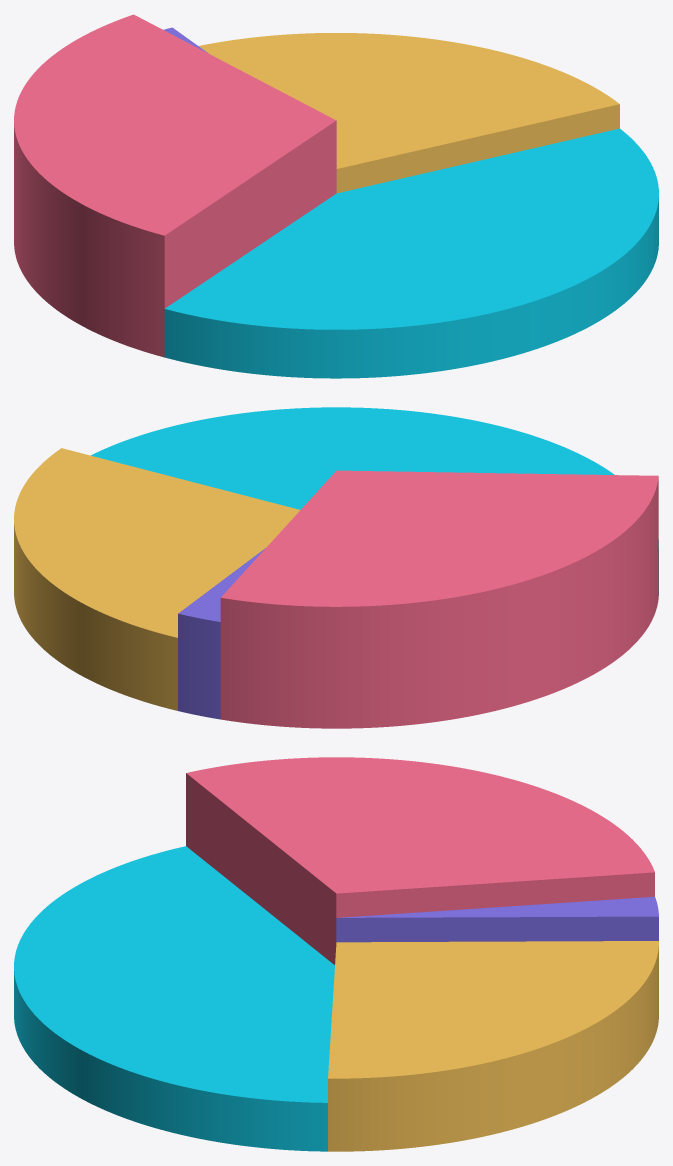
The model's file is elderly2.fbx.
The picture shows the model from 3 angles, top to bottom: view 1: azimuth 30°, elevation 25°; view 2: azimuth 150°, elevation 25°; view 3: azimuth 270°, elevation 25°; orthographic projection.
Parts seen in each view (by area): view 1: Elderly_1_obj; view 2: Elderly_1_obj; view 3: Elderly_1_obj.
Boxes of the visible parts, box(x1,y1,x2,y2) form: Elderly_1_obj: box(14, 14, 658, 378); Elderly_1_obj: box(14, 407, 658, 728); Elderly_1_obj: box(14, 757, 658, 1151).
Bounding box in the file's own units: 2.4 × 0.5 × 2.4.
